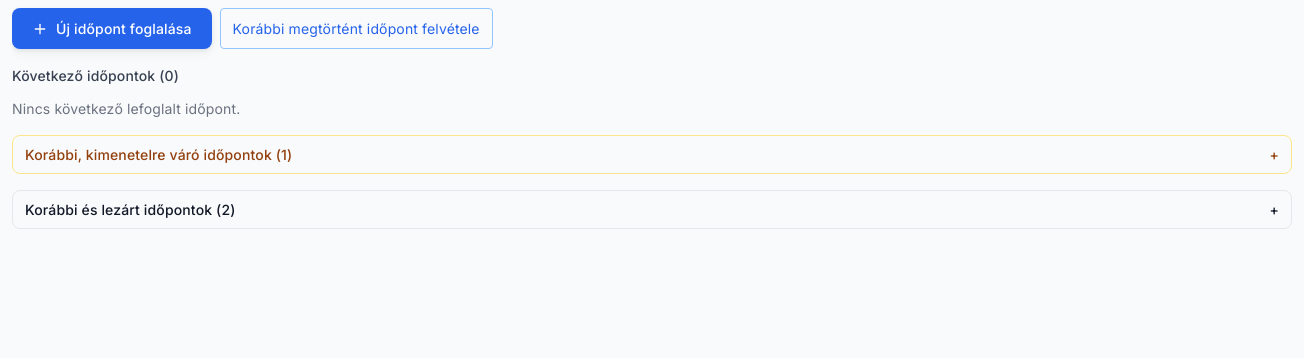
Test: patient appointment list layout › keeps unresolved past visits separate from completed and cancelled history
Expected: the text "Nincs következő lefoglalt időpont." is shown, [12,100,240,117]
Click the button "Korábbi, kimenetelre váró időpontok (1)" at (148, 154), box [12,135,1292,174]
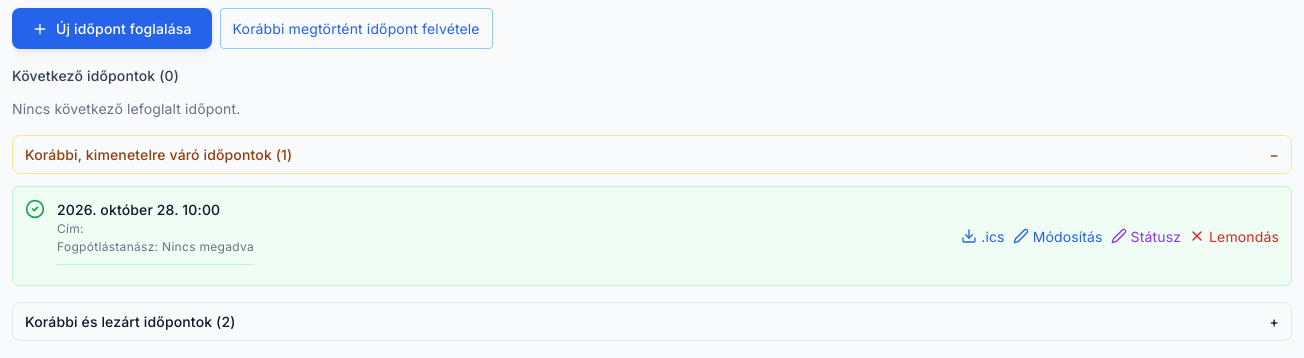
Expected: the number of buttons "Státusz" is 1, [1111,226,1181,246]
